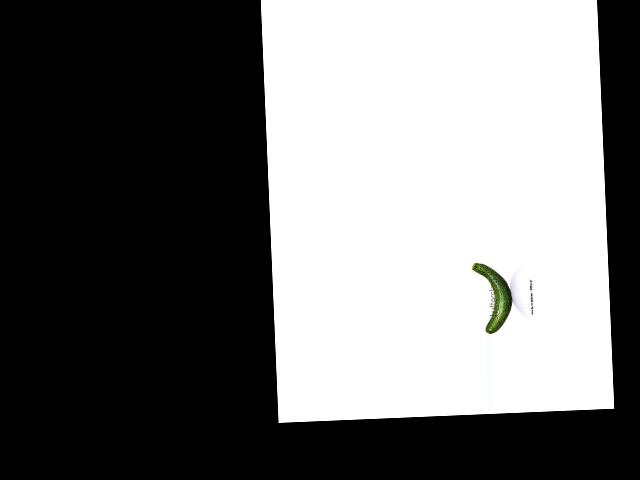cucumber: (471, 261, 513, 334)
